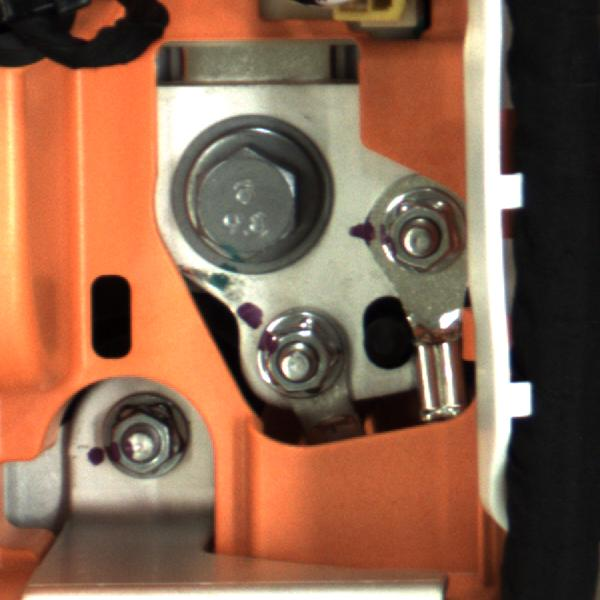nut_b: (177, 140, 331, 267)
screw_s: (248, 311, 351, 404), (97, 394, 184, 478), (377, 192, 457, 276)
